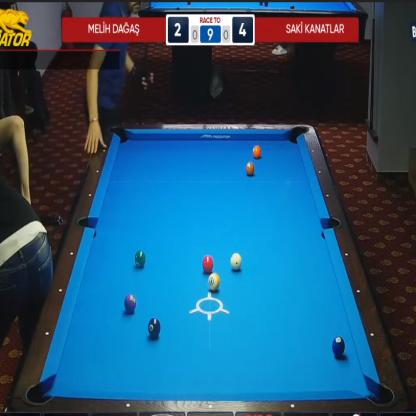Ball: (147, 317, 161, 339), (332, 336, 346, 357), (208, 272, 221, 292), (124, 293, 136, 313), (134, 249, 146, 268), (230, 253, 242, 271), (202, 254, 214, 272), (245, 161, 255, 176), (252, 145, 261, 159)
